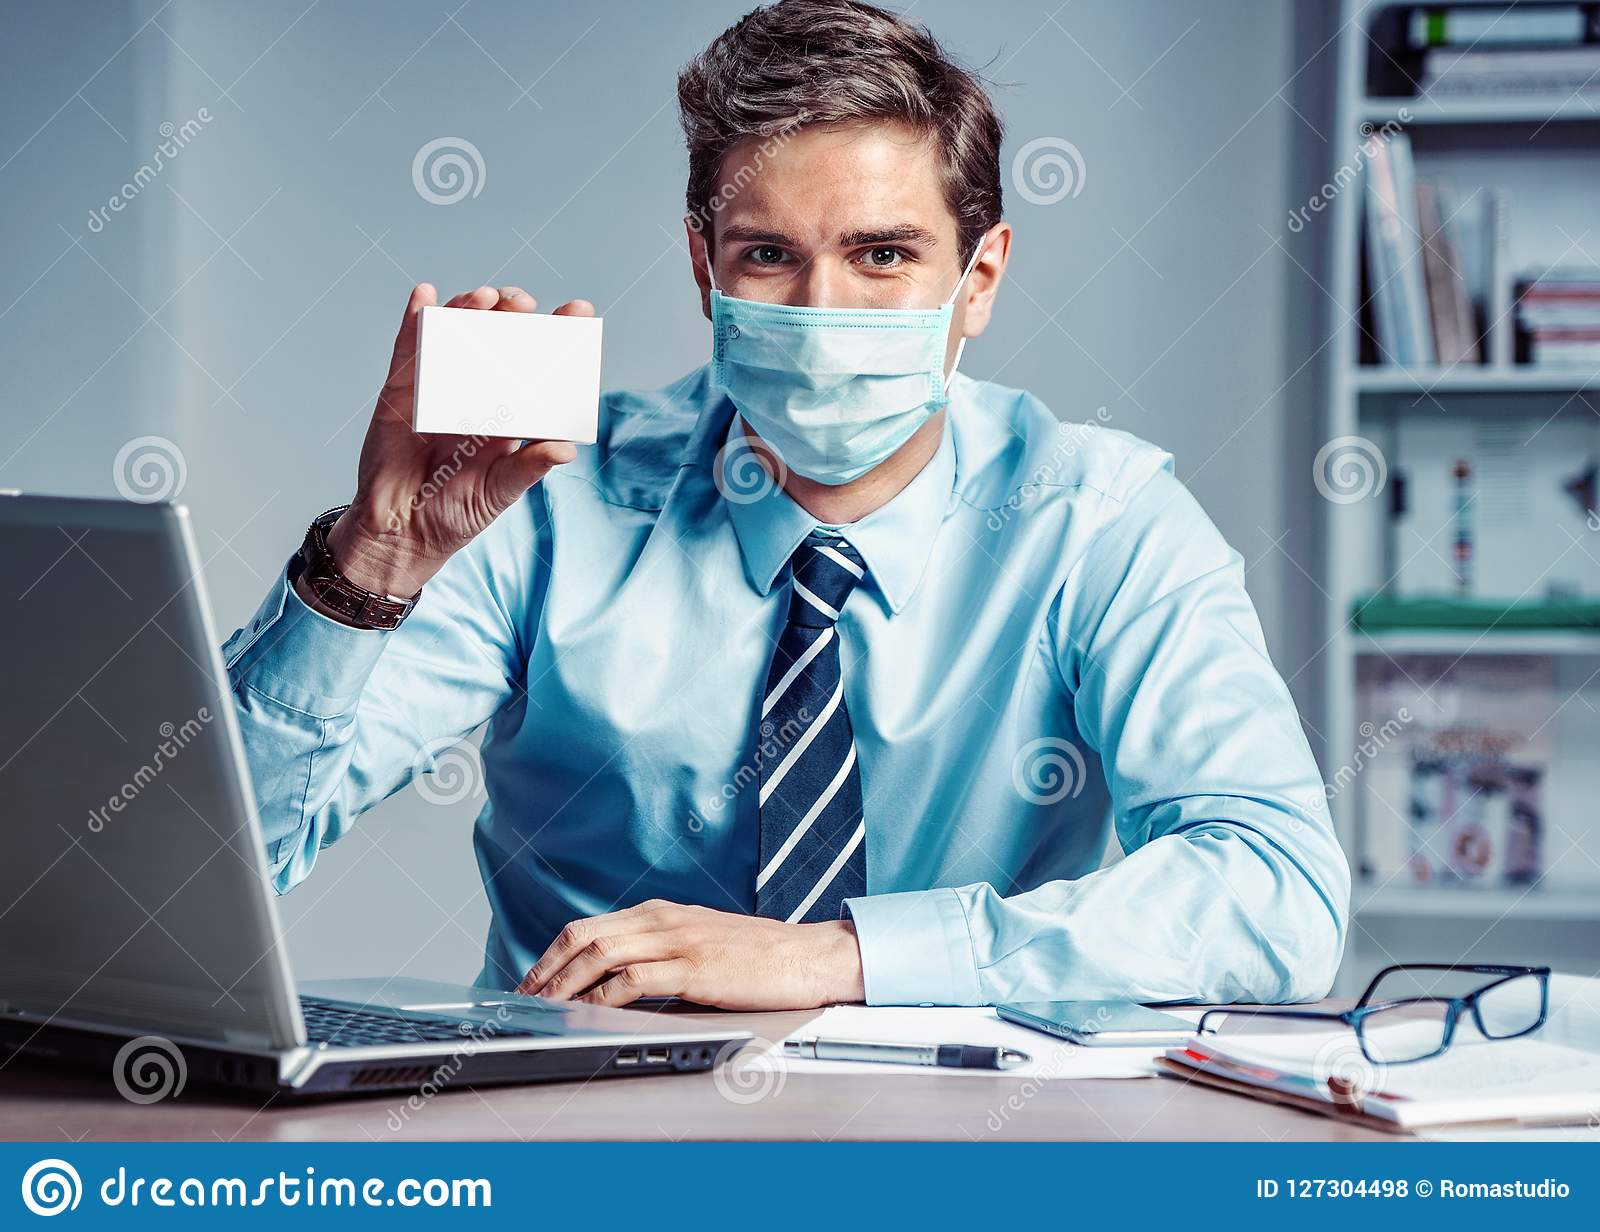mask: (708, 292, 955, 490)
